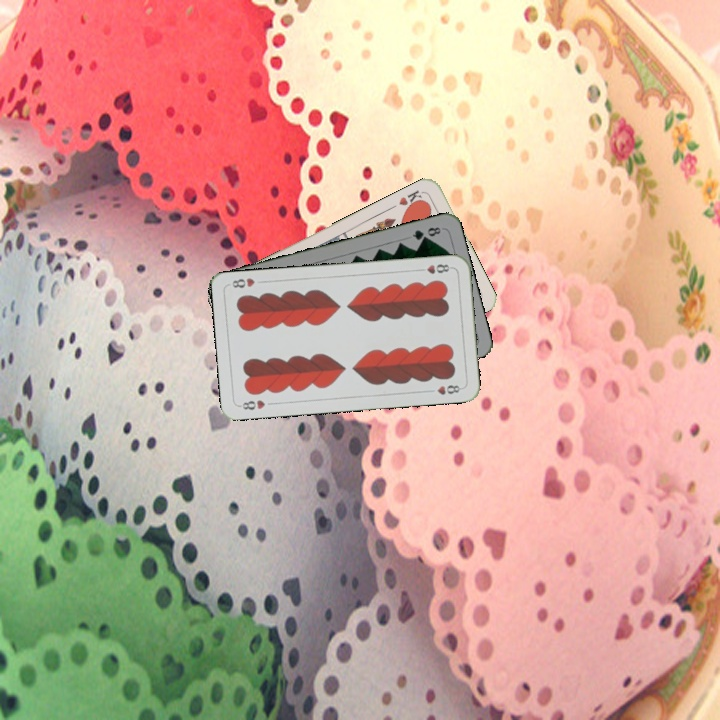G8: (408, 223, 445, 243)
H8: (414, 260, 454, 276), (235, 396, 268, 412)
HK: (395, 186, 427, 212)
